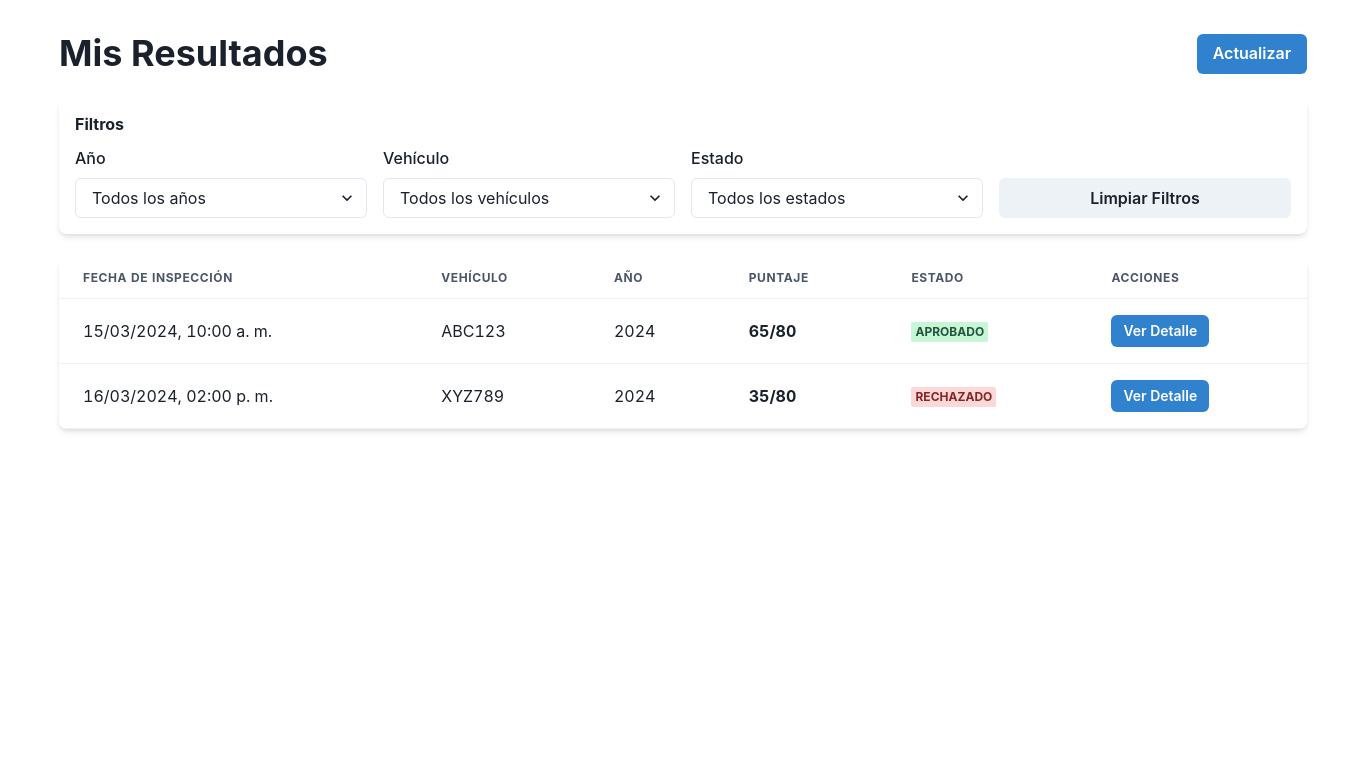
InspectionResultsPage › detail modal › should open detail modal when clicking view detail button
Click the button "Ver Detalle" in the row of "15/03/2024, 10:00 a. m.".
click(1160, 331)  # box x1=1111 y1=315 x2=1209 y2=347
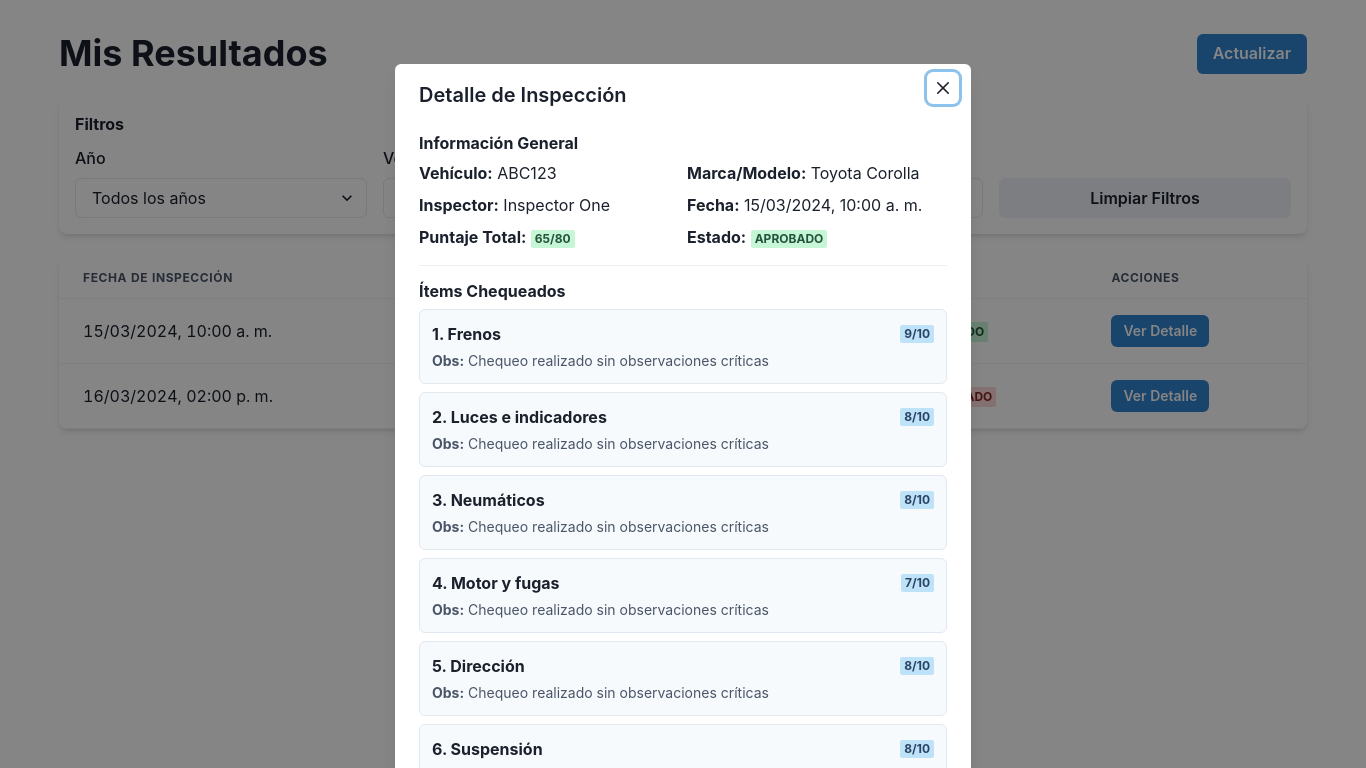
Result: the text "Detalle de Inspección" is shown at x1=419 y1=83 x2=627 y2=107
